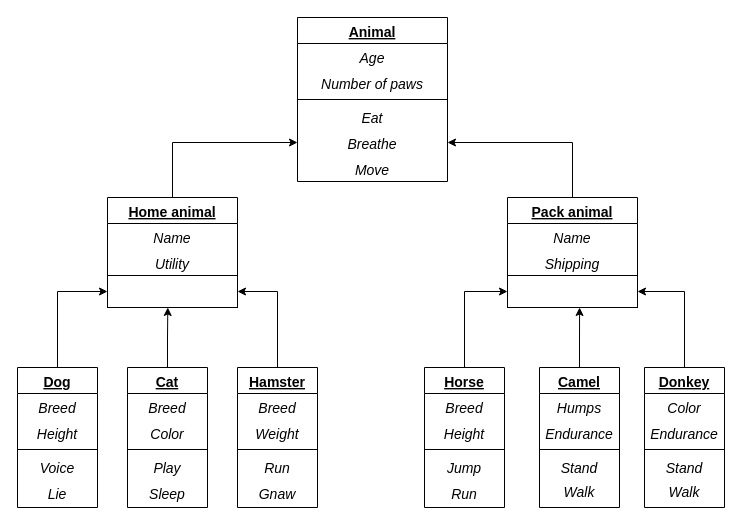
Some shapes in this 742 by 526 pixel diagram are drawn without their labels. Here are the shapes that lost their labels. From the top down, the centre of each, then its label:
pixel 172 291: Live home
pixel 572 291: Carry
